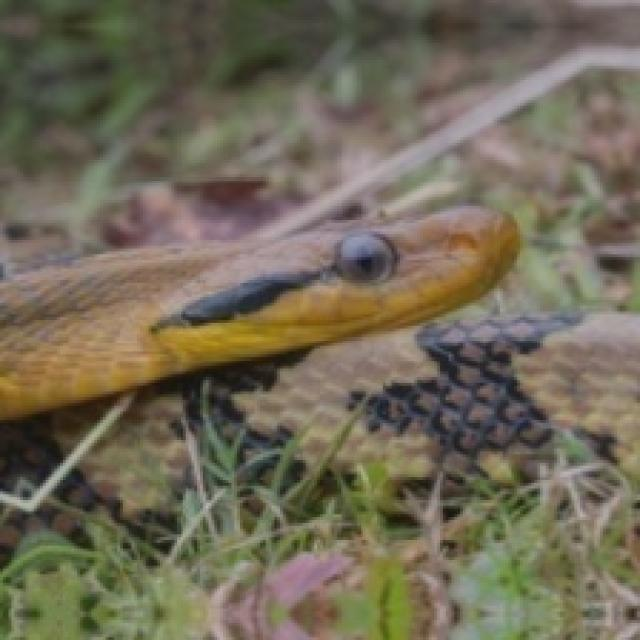dog-toothed cat snake: (0, 206, 637, 637)
